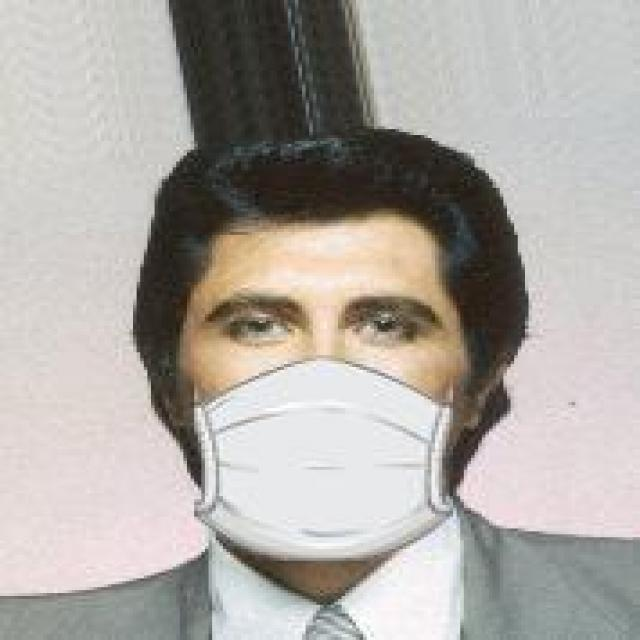mask: (101, 129, 568, 555)
